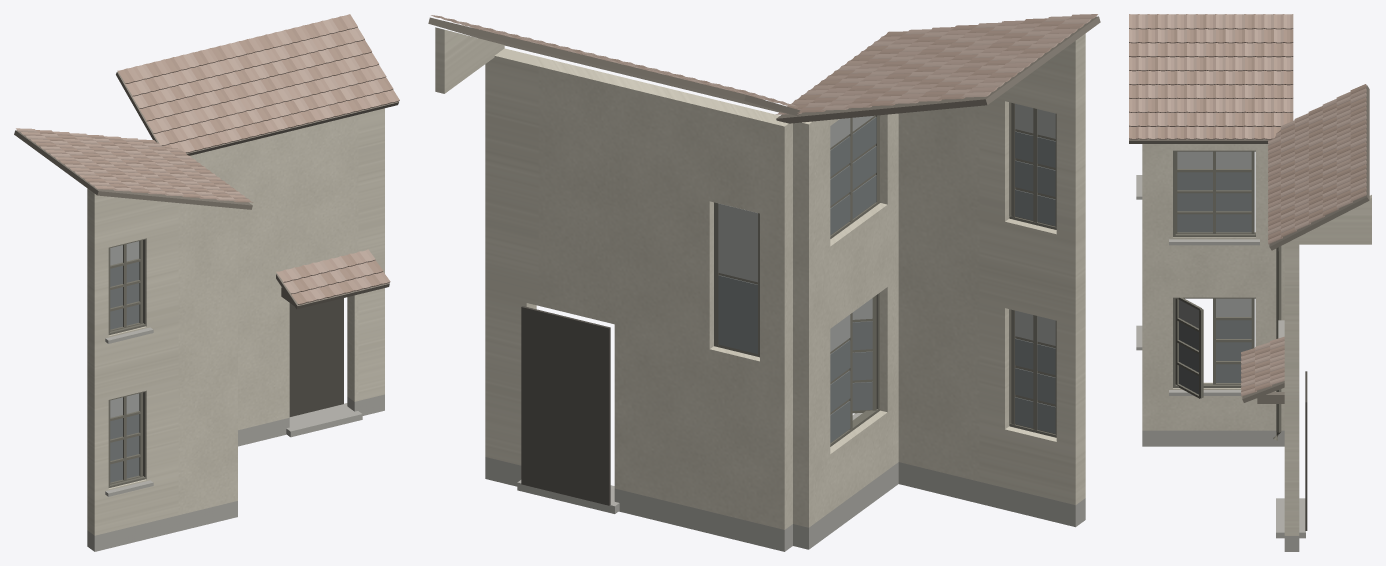
Rendered from caoyang-1952-workers-entry-far.glb.
The picture shows the model from 3 angles, left to right: view 1: azimuth 30°, elevation 25°; view 2: azimuth 150°, elevation 25°; view 3: azimuth 270°, elevation 25°; orthographic projection. The views are drawn at different scales.
Visible parts, largest first — view 1: 曹杨一村工人住宅折角门廊与窄窗; view 2: 曹杨一村工人住宅折角门廊与窄窗; view 3: 曹杨一村工人住宅折角门廊与窄窗.
Part boxes in pixels (x1,y1,x2,y2): 曹杨一村工人住宅折角门廊与窄窗: (14,14,399,551); 曹杨一村工人住宅折角门廊与窄窗: (428,14,1100,551); 曹杨一村工人住宅折角门廊与窄窗: (1129,14,1371,551).
Size of the model in its own units: 6.38 by 6.02 by 3.65.
10 materials, 1 textured.
